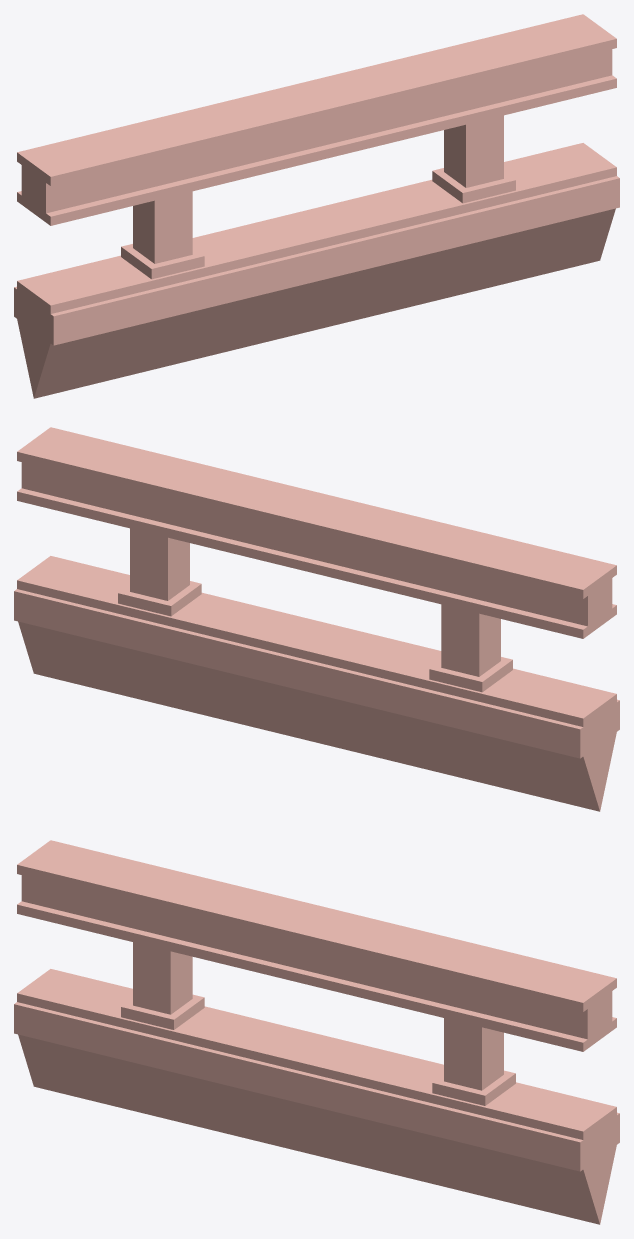
The model's file is Mega_Asset_s_Pack_Cube_211.FBX.
The picture shows the model from 3 angles, top to bottom: view 1: azimuth 30°, elevation 25°; view 2: azimuth 150°, elevation 25°; view 3: azimuth 330°, elevation 25°; orthographic projection.
Visible parts, largest first — view 1: Mega_Asset_s_Pack_Cube_211; view 2: Mega_Asset_s_Pack_Cube_211; view 3: Mega_Asset_s_Pack_Cube_211.
Part boxes in pixels (<box>): Mega_Asset_s_Pack_Cube_211: <box>14,14,619,398</box>; Mega_Asset_s_Pack_Cube_211: <box>14,427,619,811</box>; Mega_Asset_s_Pack_Cube_211: <box>14,840,619,1224</box>.
Size of what is drawn, in the model's own units: 395 by 48.03 by 156.
